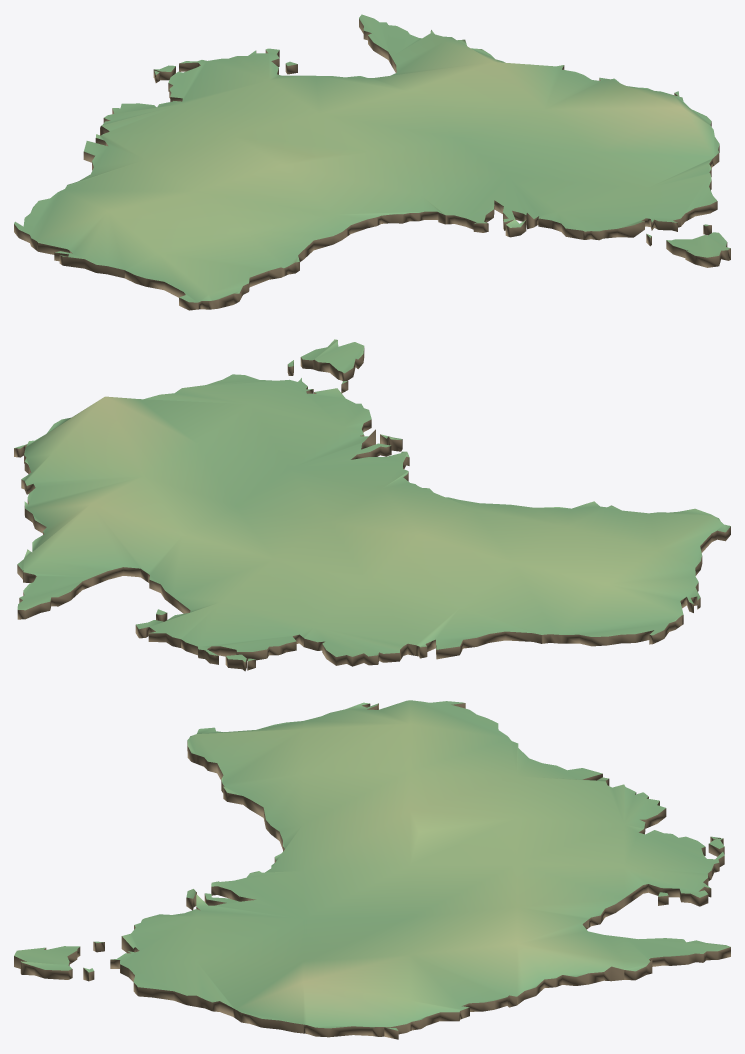
Rendered from AUS.glb.
3 renders of one model, top to bottom at view 1: azimuth 30°, elevation 25°; view 2: azimuth 150°, elevation 25°; view 3: azimuth 270°, elevation 25°, orthographic. The views are drawn at different scales.
Visible parts, largest first — view 1: AUS; view 2: AUS; view 3: AUS.
Boxes of the visible parts, box(x1,y1,x2,y2) form: AUS: box(14, 14, 730, 310); AUS: box(14, 339, 730, 671); AUS: box(14, 700, 730, 1039).
Size of the model in its own units: 1.73 by 0.0891 by 1.59.
